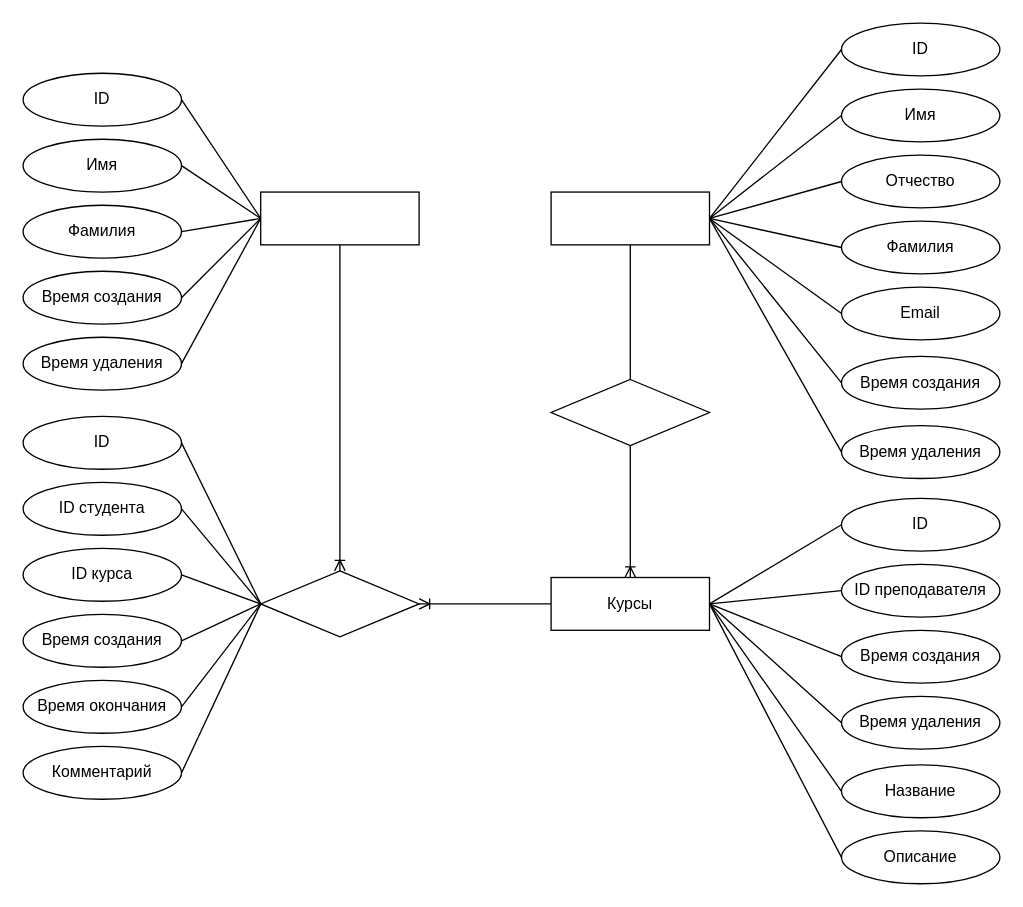
Image size: 1023x907. Some labels were removed from this diagram. Each missing label, with the centre of its shape:
"Поступления" belongs at (x=339, y=603).
"Преподаватели" belongs at (x=630, y=218).
"Преподает" belongs at (x=630, y=412).
"Студенты" belongs at (x=339, y=218).
